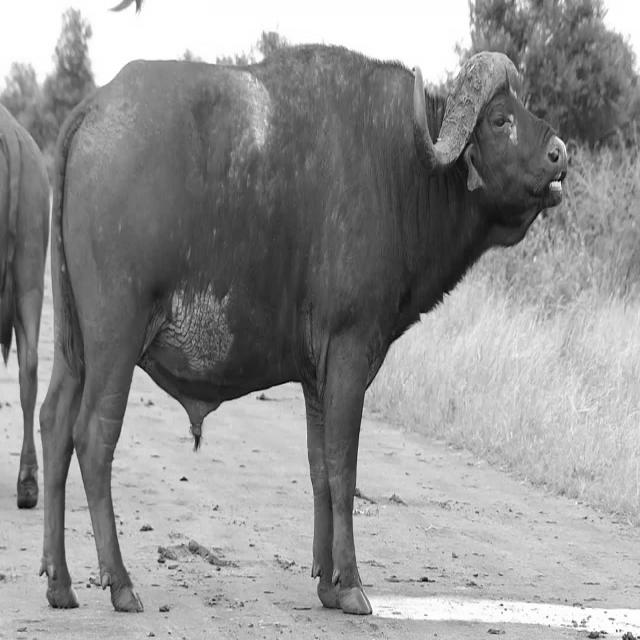Buffalo: (38, 46, 572, 614)
